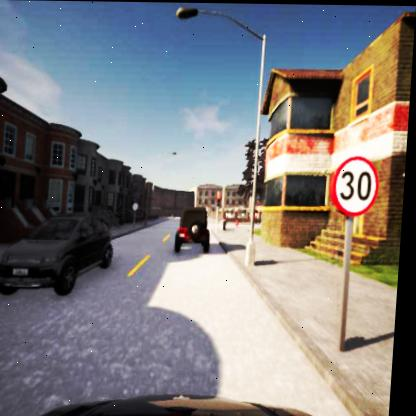vehicle: (0, 213, 121, 297), (178, 206, 214, 251)
